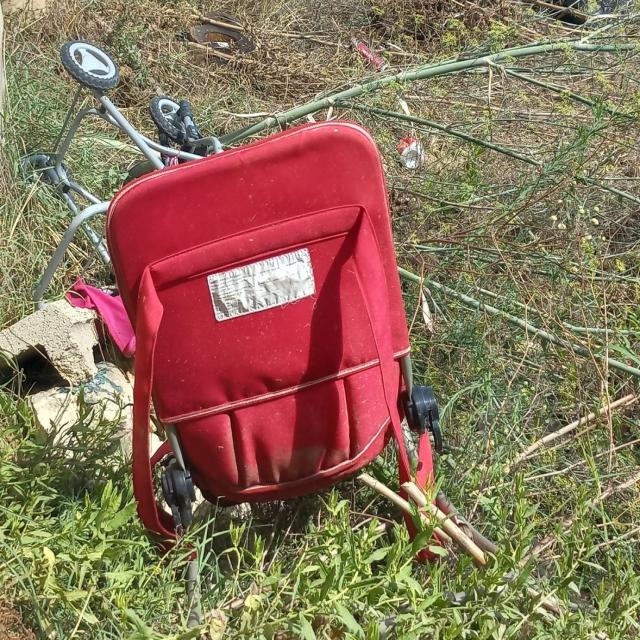Can: (348, 36, 392, 77), (397, 133, 426, 172)
Other litter: (18, 40, 445, 639), (178, 8, 260, 66), (555, 1, 619, 28)
